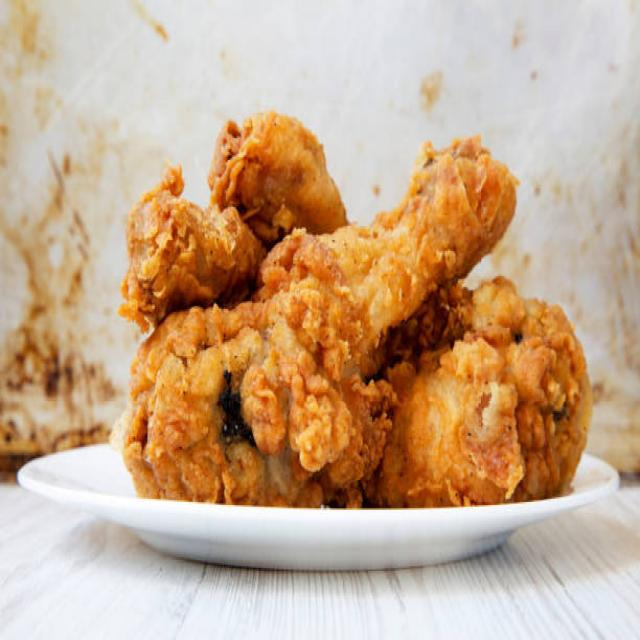Frango: (118, 107, 595, 505)
